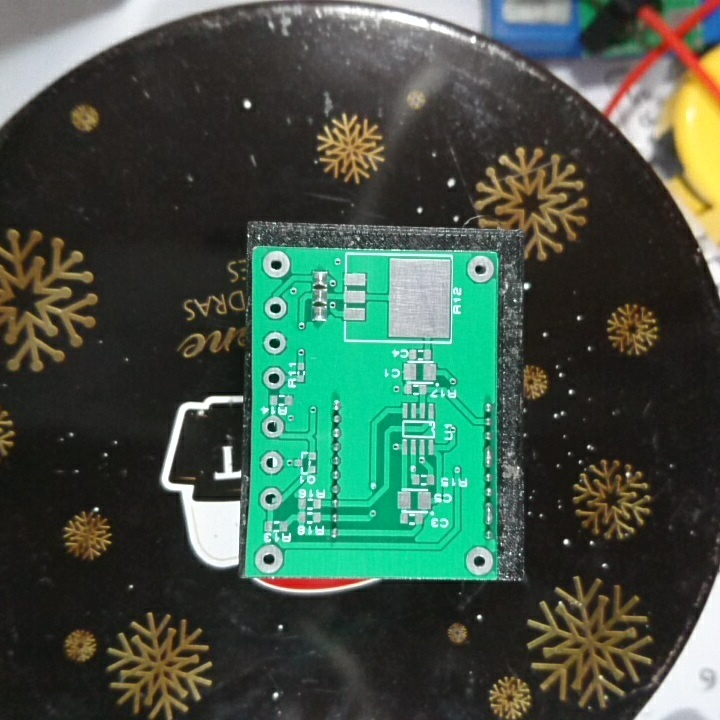F: (463, 544, 495, 578), (253, 541, 285, 573), (259, 248, 291, 279), (465, 252, 494, 283), (259, 410, 286, 440), (259, 447, 285, 478), (259, 363, 286, 392), (257, 485, 285, 512), (261, 329, 288, 356), (262, 294, 288, 321)
P: (481, 501, 497, 526), (481, 444, 494, 469)
